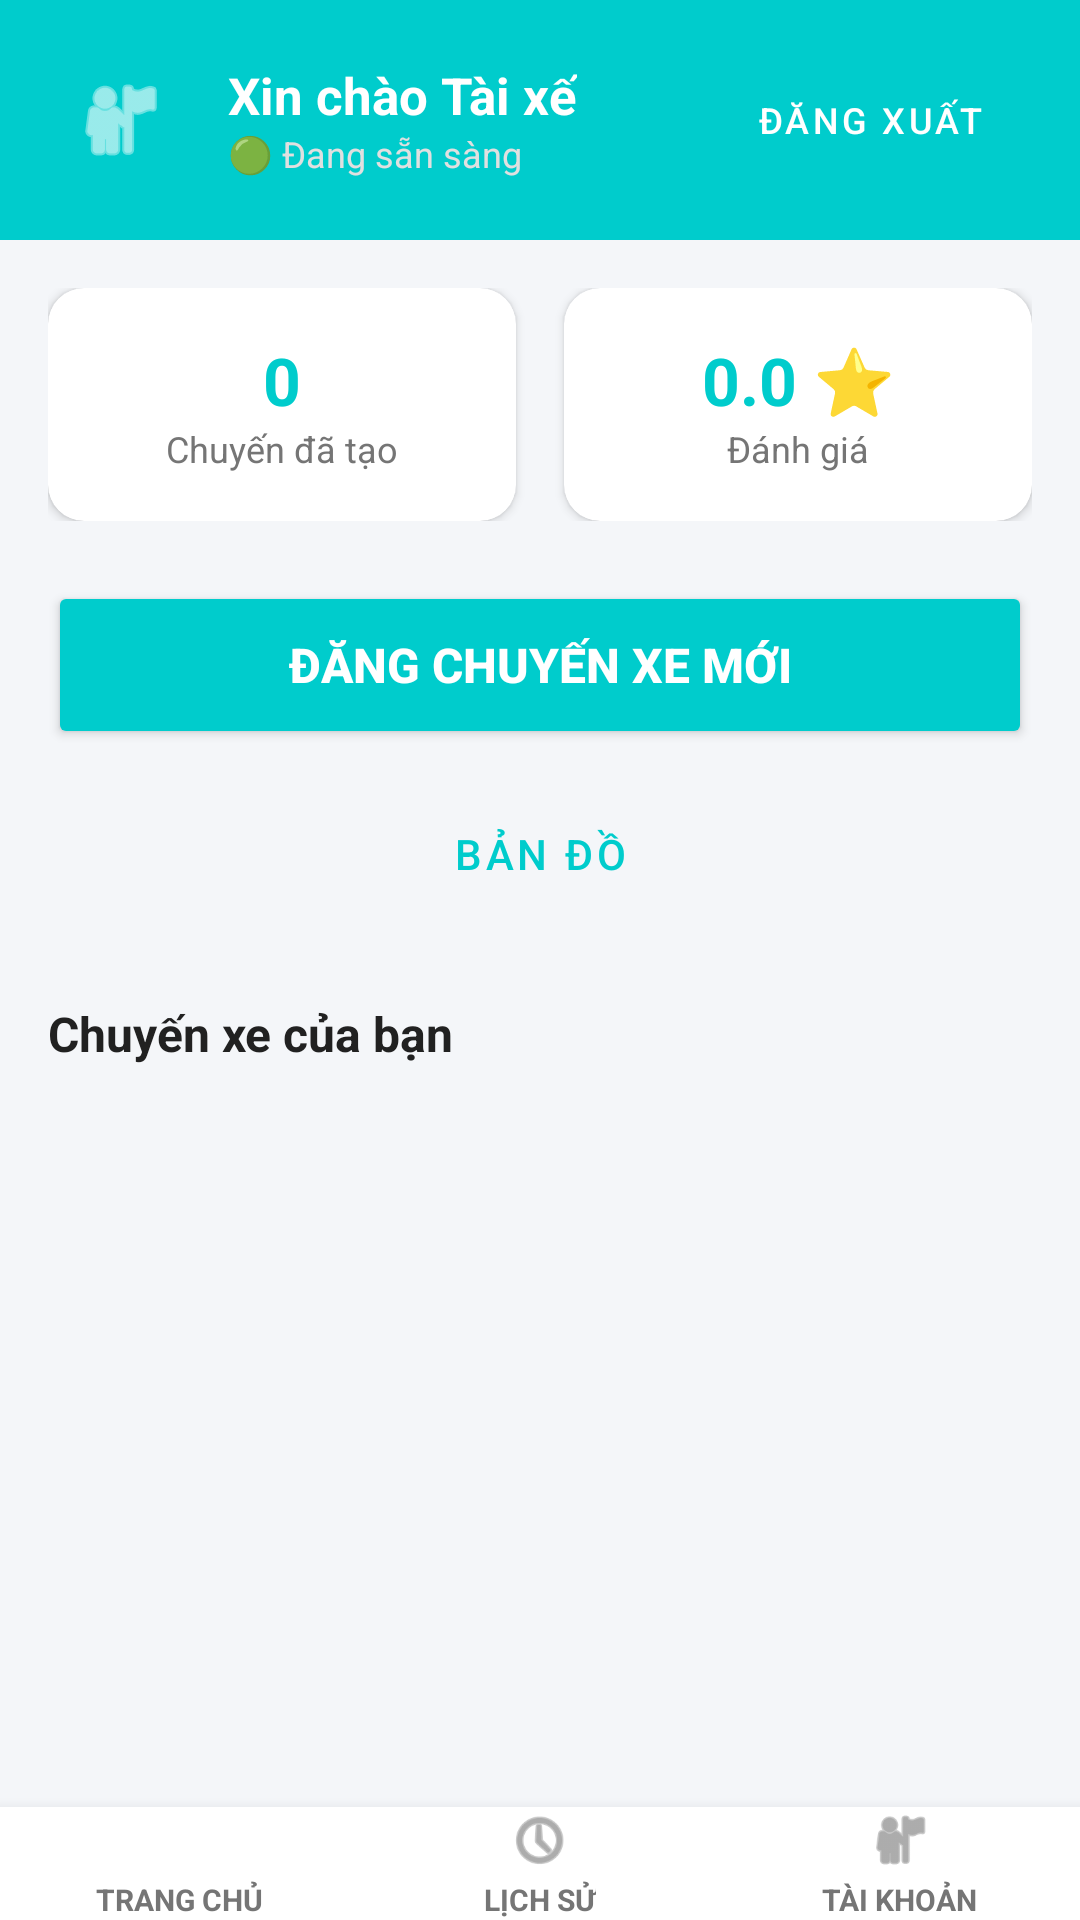

Screen size 1080 x 1920. Icon name, then its center in pixels as point (x, y):
myplaces: point (121, 120), point (900, 1840)
